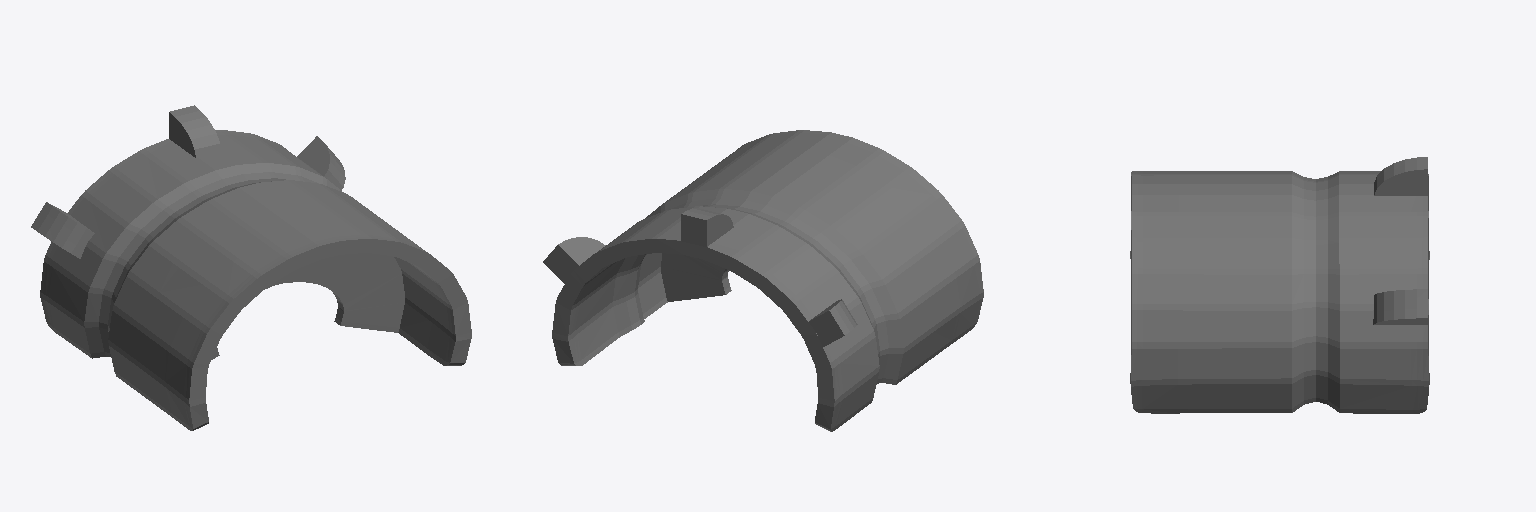
Rendered from WorkStation.obj.
3 views of the same model, side by side, from view 1: azimuth 30°, elevation 25°; view 2: azimuth 150°, elevation 25°; view 3: azimuth 270°, elevation 25° (orthographic).
Parts seen in each view (by area): view 1: Work_Station; view 2: Work_Station; view 3: Work_Station.
Part boxes in pixels (left/top/right/bottom): Work_Station: left=31, top=105, right=471, bottom=430; Work_Station: left=543, top=130, right=983, bottom=431; Work_Station: left=1130, top=157, right=1429, bottom=413.
Size of the model in its own units: 163 by 95.84 by 140.